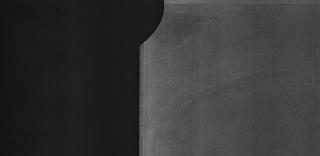welding line: (156, 0, 320, 10)
